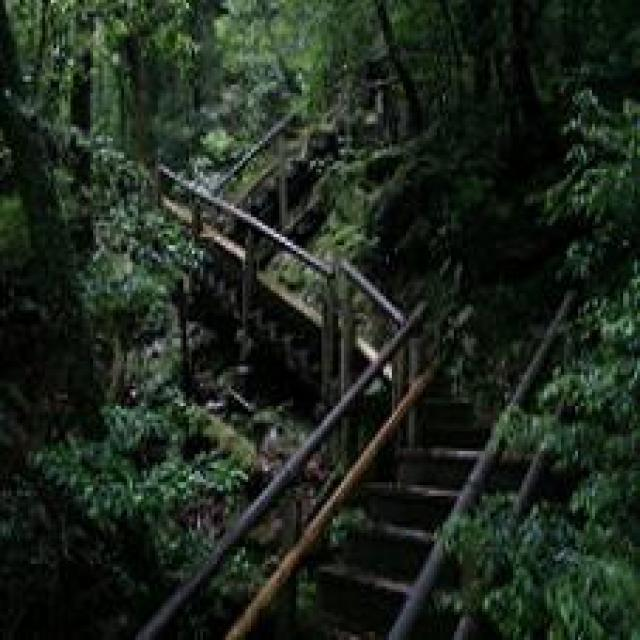stair: (282, 381, 493, 598)
